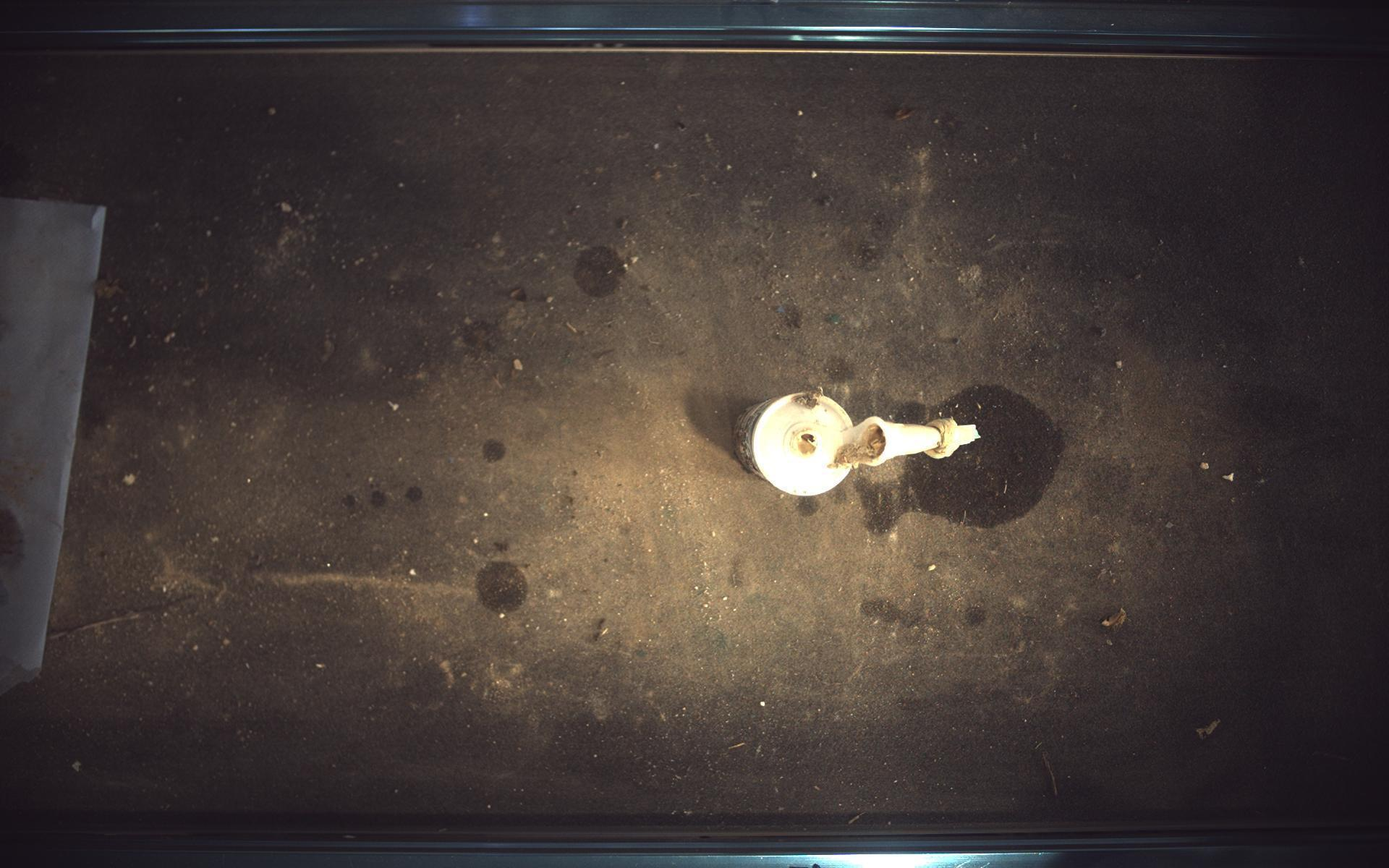plastic: (736, 390, 982, 496)
